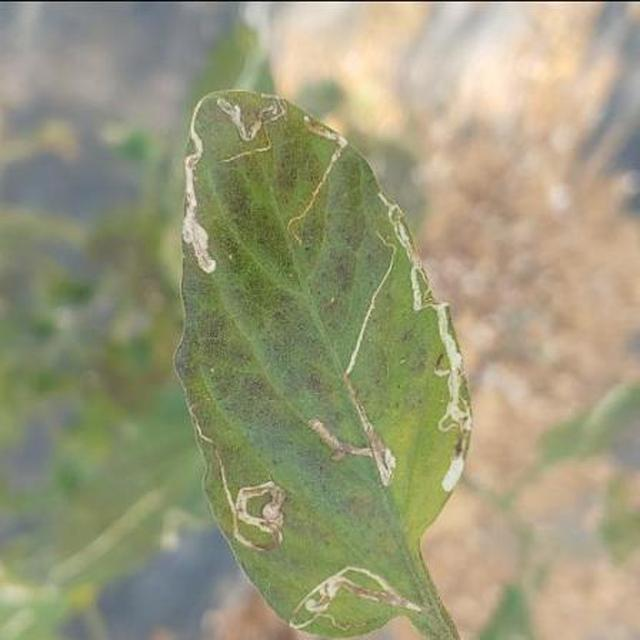Leaf Miner: (242, 196, 640, 640)
